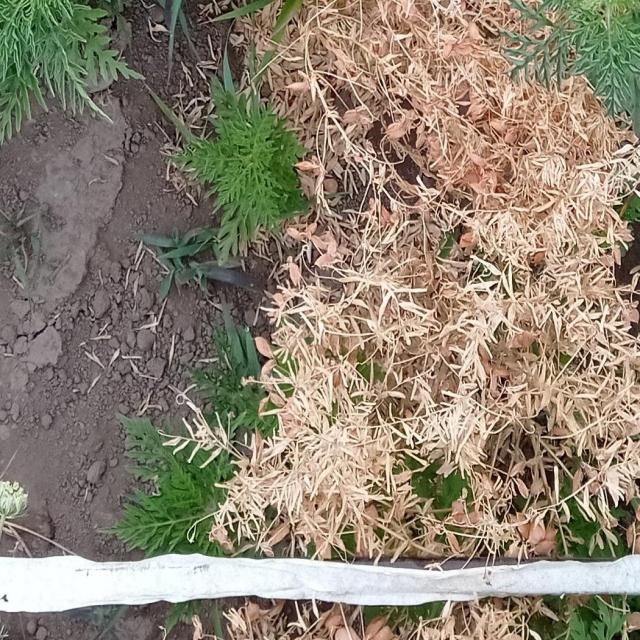AMBEL: (169, 72, 331, 241), (0, 0, 160, 161), (110, 411, 280, 556), (500, 0, 640, 114)
